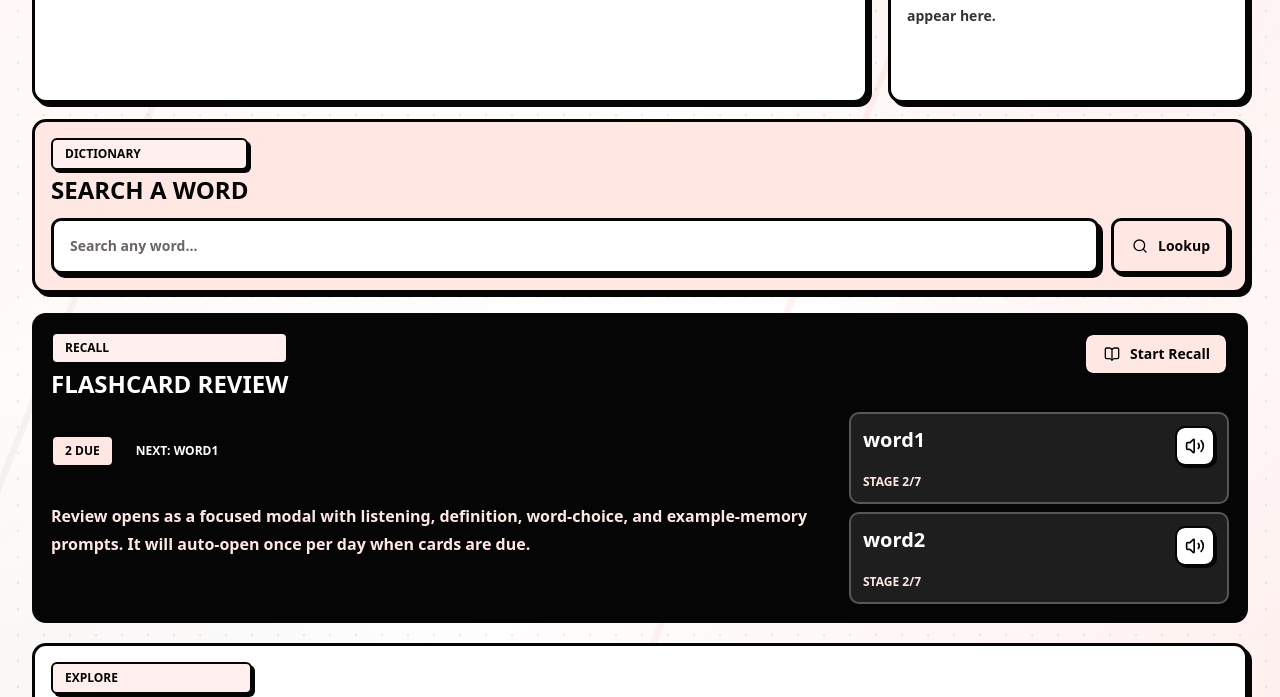
VocabularyDashboard › a mid-session refresh of stale cards never re-deals an answered item
This screenshot has width=1280, height=697.
(page scrolled)
// Opening with a stale card deals a fresh first page in the background.
Click the button "Start Recall".
click(1156, 354)  # box [1083,332,1229,376]
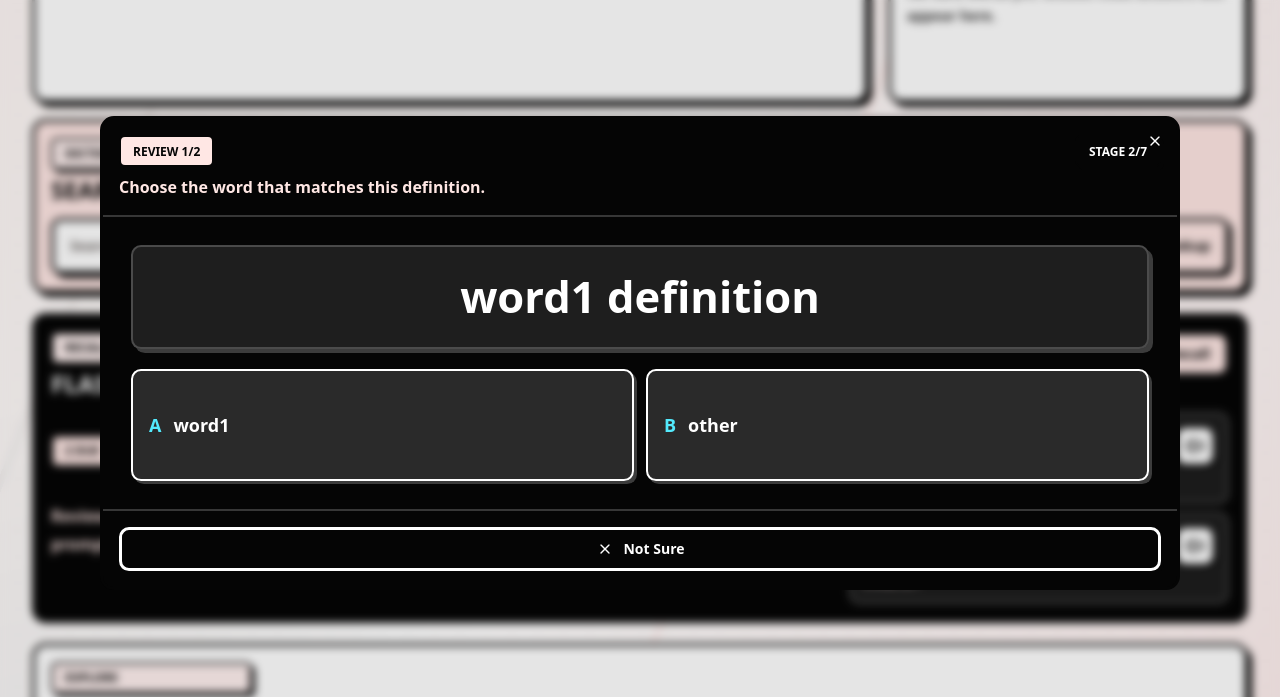
// Item 1 is answered before that page lands, and the page re-deals it.
Click the button "A word1".
click(201, 425)  # box [131,369,634,481]
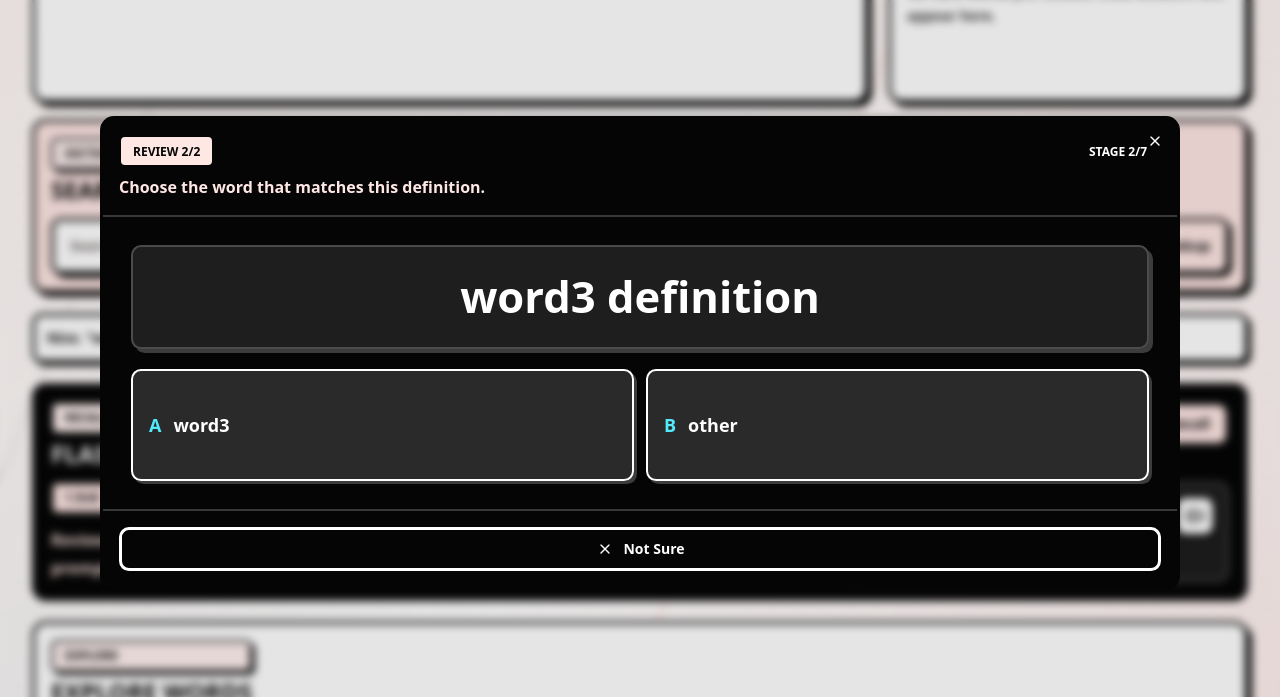
Result: the button "A word3" is shown at [131,369,634,481]
